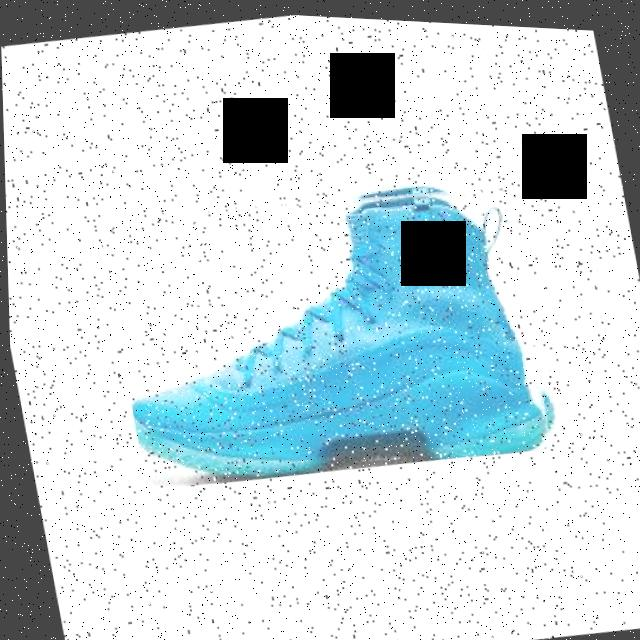shoe: (94, 151, 562, 507)
